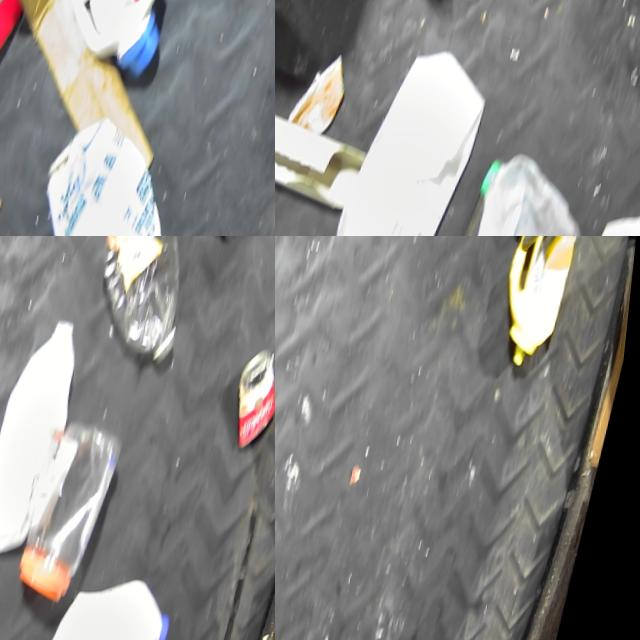can: (229, 348, 275, 462)
milk_jug: (323, 43, 504, 236), (0, 317, 97, 575), (455, 151, 616, 236), (31, 568, 197, 640)
non_white_jug: (44, 0, 203, 92), (493, 236, 587, 383)
plastic_bottle: (79, 236, 223, 382)
